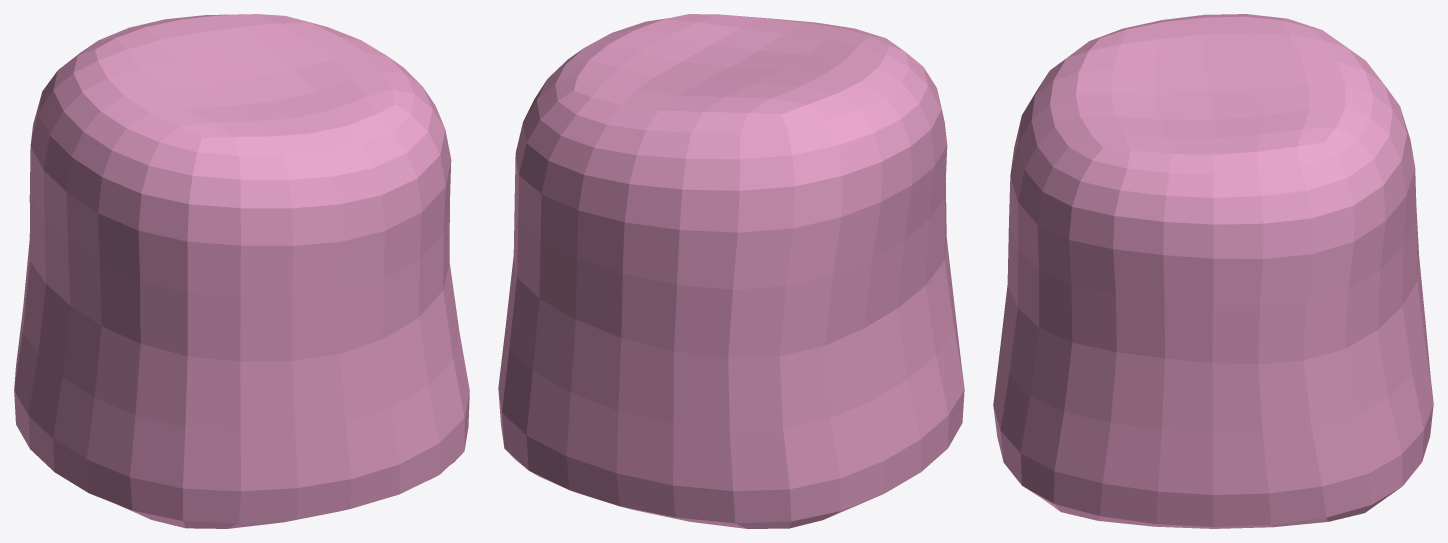
The model's file is Prop_MellowBig1.fbx.
3 renders of one model, left to right at view 1: azimuth 30°, elevation 25°; view 2: azimuth 150°, elevation 25°; view 3: azimuth 270°, elevation 25°, orthographic. The views are drawn at different scales.
Parts seen in each view (by area): view 1: MellowBig1; view 2: MellowBig1; view 3: MellowBig1.
Part boxes in pixels (left/top/right/bottom): MellowBig1: left=14, top=14, right=469, bottom=528; MellowBig1: left=498, top=14, right=964, bottom=528; MellowBig1: left=993, top=14, right=1433, bottom=528.
Size of the model in its own units: 259 by 248 by 262.
